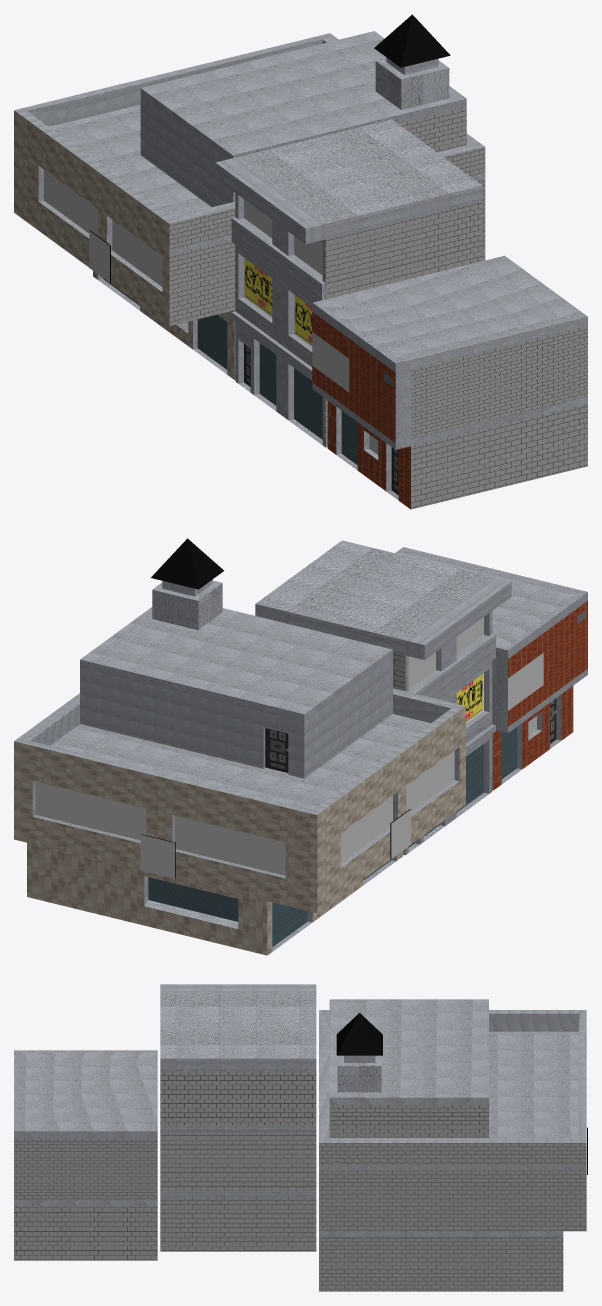
Rendered from edificios.obj.
The picture shows the model from 3 angles, top to bottom: view 1: azimuth 30°, elevation 25°; view 2: azimuth 150°, elevation 25°; view 3: azimuth 270°, elevation 25°; orthographic projection. The views are drawn at different scales.
Parts seen in each view (by area): view 1: Plane.004_Plane.000; view 2: Plane.004_Plane.000; view 3: Plane.004_Plane.000.
Boxes of the visible parts, x1=… form: Plane.004_Plane.000: x1=14, y1=14, x2=587, y2=509; Plane.004_Plane.000: x1=14, y1=538, x2=587, y2=955; Plane.004_Plane.000: x1=14, y1=984, x2=587, y2=1291.
Size of the model in its own units: 4.05 by 3.65 by 7.36.
